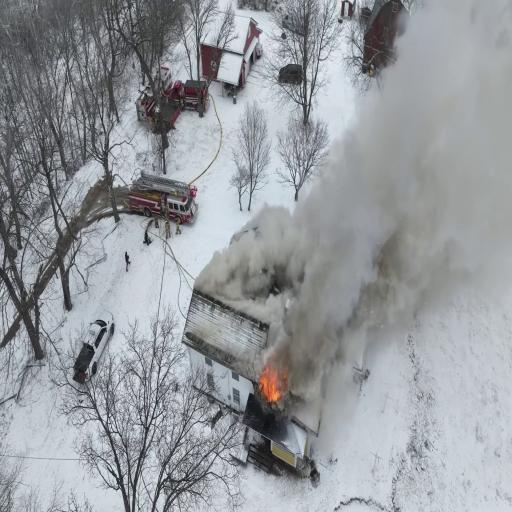fire: (256, 361, 288, 401)
smoke: (344, 148, 424, 301), (214, 238, 329, 326)
